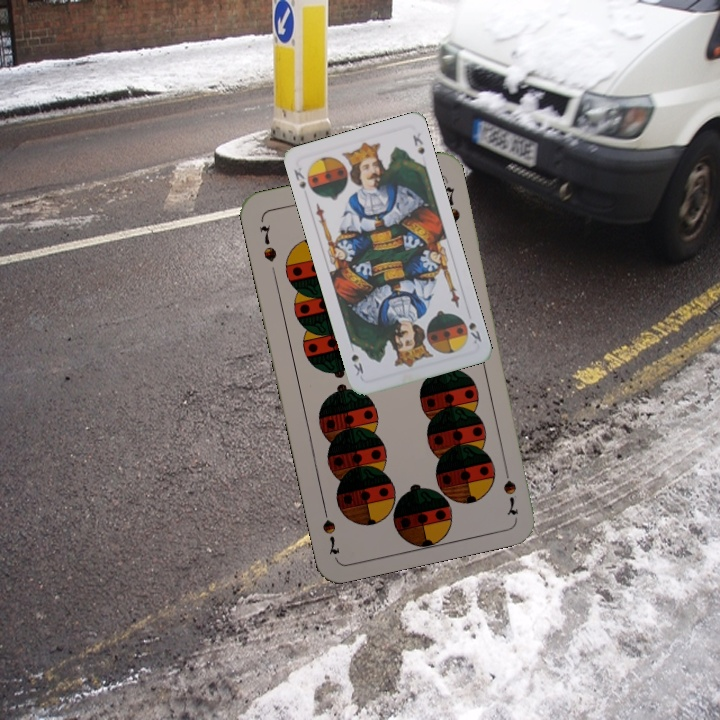S7: (499, 460, 521, 518), (255, 221, 280, 265)
SK: (290, 163, 316, 196), (465, 318, 484, 346)
